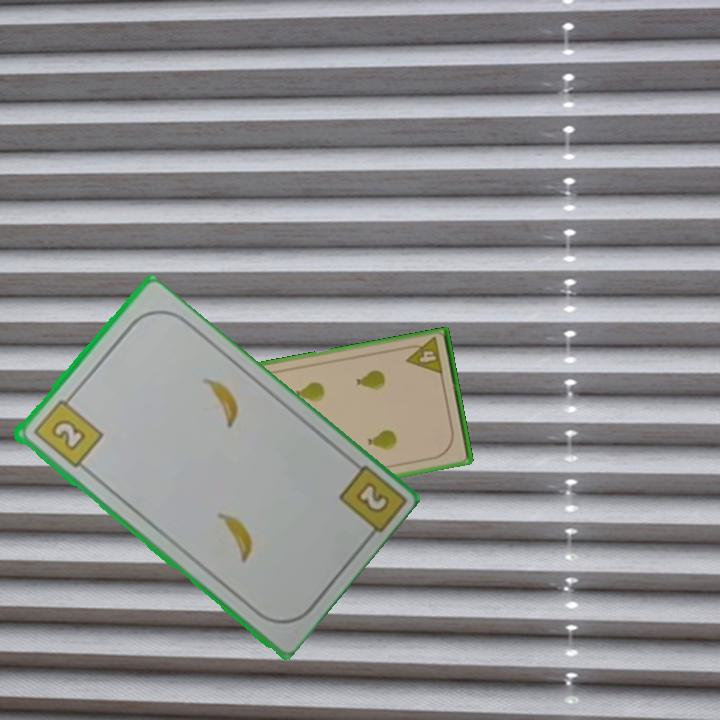2b: (29, 391, 105, 471), (351, 478, 392, 517)
4p: (401, 334, 446, 378)
